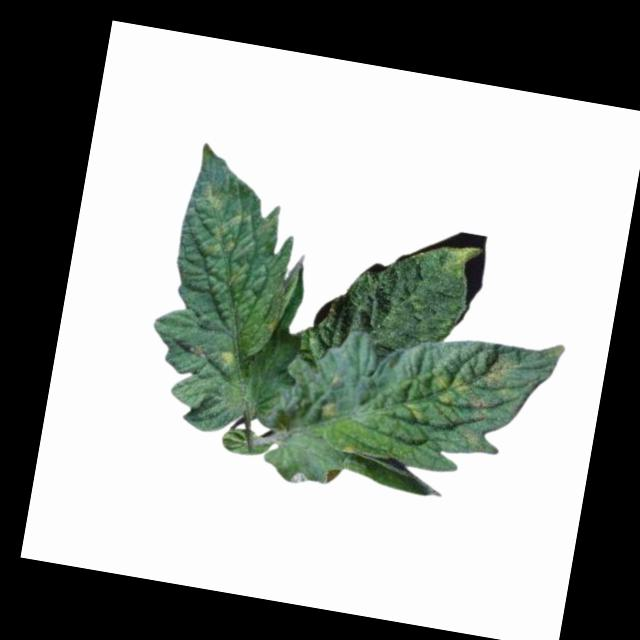Leaf_Mold: (391, 360, 471, 433), (425, 237, 482, 275), (194, 179, 228, 214), (214, 346, 236, 368)
